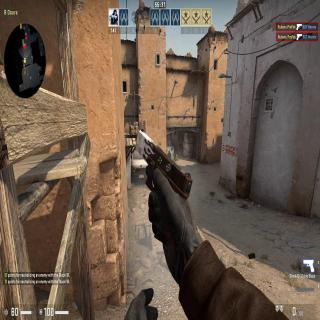CT-Body: (167, 150, 171, 156)
CT-Head: (168, 150, 170, 154)
